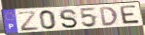0: (38, 10, 58, 31)
5: (78, 7, 99, 28)
D: (98, 6, 119, 27)
E: (120, 5, 142, 25)
S: (59, 9, 80, 30)
Z: (17, 10, 41, 33)
